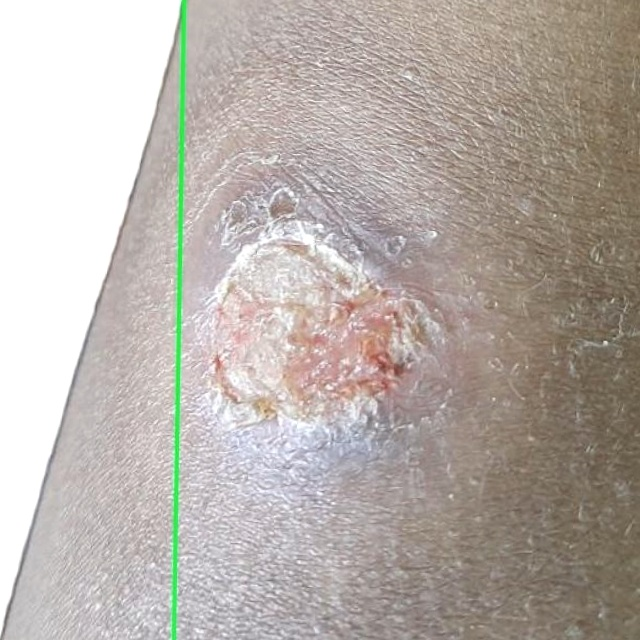Eczema: (0, 0, 184, 639)
